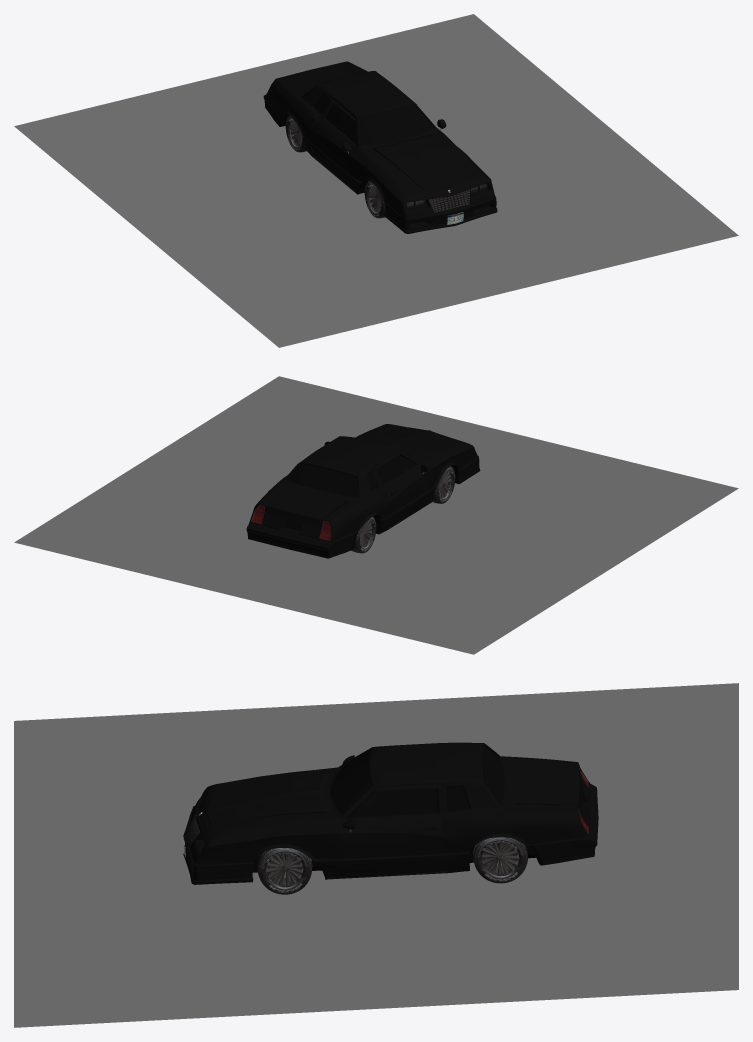
File: chevrolet__monte-carlo.glb
The picture shows the model from 3 angles, top to bottom: view 1: azimuth 30°, elevation 25°; view 2: azimuth 150°, elevation 25°; view 3: azimuth 270°, elevation 25°; orthographic projection. The views are drawn at different scales.
Visible parts, largest first — view 1: Plane.001, corpus, Sphere, glasscar, bagazhnik, glassfront, Wheels, radiator; view 2: Plane.001, corpus, bagazhnik, Sphere, glasscar, Wheels, glassfront, discs; view 3: Plane.001, corpus, Sphere, glasscar, bagazhnik, Wheels, discs, glassfront.
Part boxes in pixels (x1,y1,x2,y2): Plane.001: (14,14,738,347); corpus: (263,61,497,233); Sphere: (311,85,447,191); glasscar: (313,94,433,145); bagazhnik: (283,63,356,92); glassfront: (325,104,356,144); Wheels: (285,115,384,218); radiator: (429,190,470,212); Plane.001: (14,376,738,654); corpus: (246,424,480,558); bagazhnik: (261,486,346,538); Sphere: (324,441,433,529); glasscar: (287,464,379,498); Wheels: (351,466,455,553); glassfront: (376,455,415,485); discs: (360,471,450,546); Plane.001: (14,683,738,1027); corpus: (183,742,598,884); Sphere: (325,755,446,878); glasscar: (330,746,504,814); bagazhnik: (513,765,590,826); Wheels: (257,837,528,894); discs: (266,842,518,886); glassfront: (348,788,437,817).
Size of the model in its own units: 24.59 by 4.51 by 24.55.
Materials: 11 (5 with a texture image).
